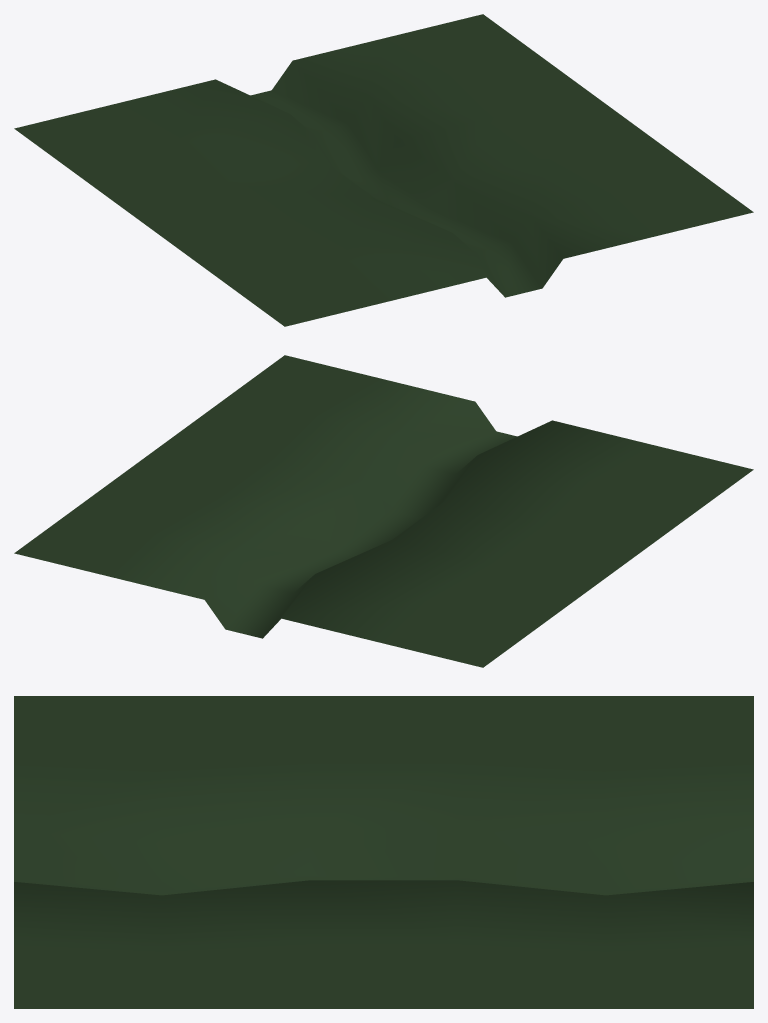
File: Terrain001.FBX
3 renders of one model, top to bottom at view 1: azimuth 30°, elevation 25°; view 2: azimuth 150°, elevation 25°; view 3: azimuth 270°, elevation 25°, orthographic. The views are drawn at different scales.
Visible parts, largest first — view 1: Terrain001; view 2: Terrain001; view 3: Terrain001.
Part boxes in pixels (left/top/right/bottom): Terrain001: left=14, top=14, right=753, bottom=326; Terrain001: left=14, top=355, right=753, bottom=667; Terrain001: left=14, top=696, right=753, bottom=1008.
Bounding box in the file's own units: 500 × 25.04 × 500.
